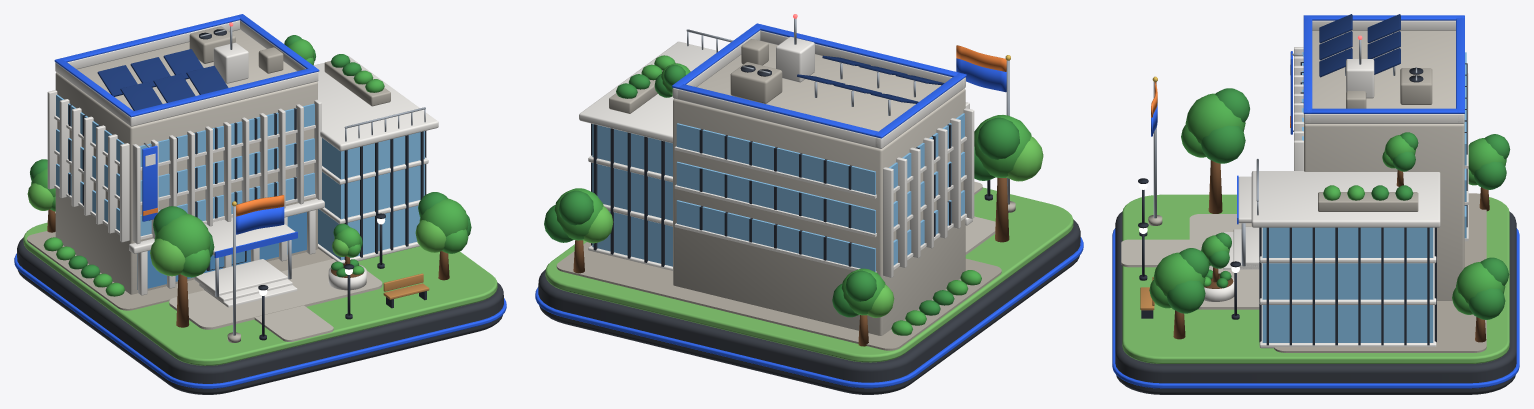
Rendered from scaler_campus.glb.
3 views of the same model, side by side, from view 1: azimuth 30°, elevation 25°; view 2: azimuth 150°, elevation 25°; view 3: azimuth 270°, elevation 25° (orthographic). The views are drawn at different scales.
Parts seen in each view (by area): view 1: scaler_campus; view 2: scaler_campus; view 3: scaler_campus.
Part boxes in pixels (box(x1,y1,x2,y2)): scaler_campus: box(14, 14, 506, 394); scaler_campus: box(535, 14, 1083, 394); scaler_campus: box(1112, 14, 1519, 394).
Bounding box in the file's own units: 1 × 0.7374 × 1.
